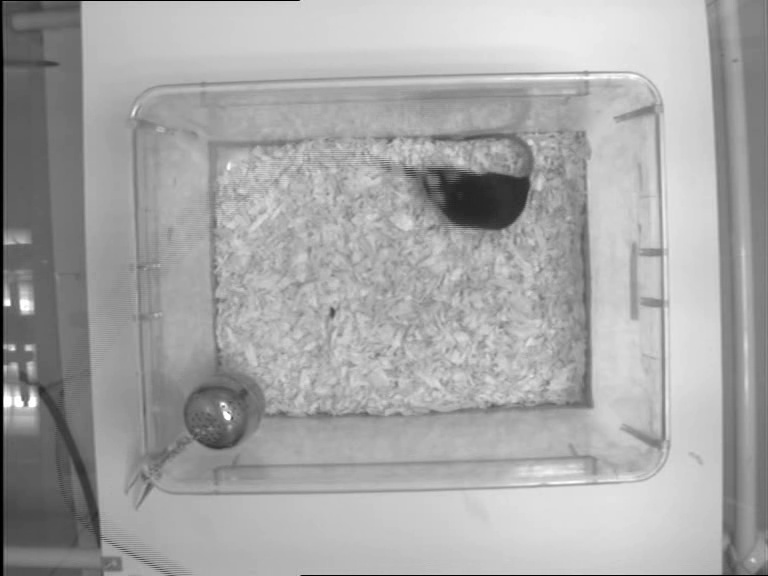mice: (421, 133, 534, 235)
